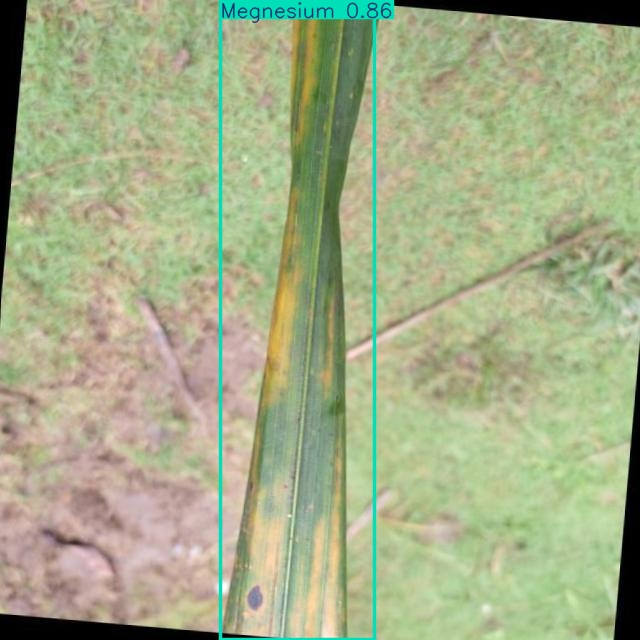Megnesium: (220, 0, 374, 639)
